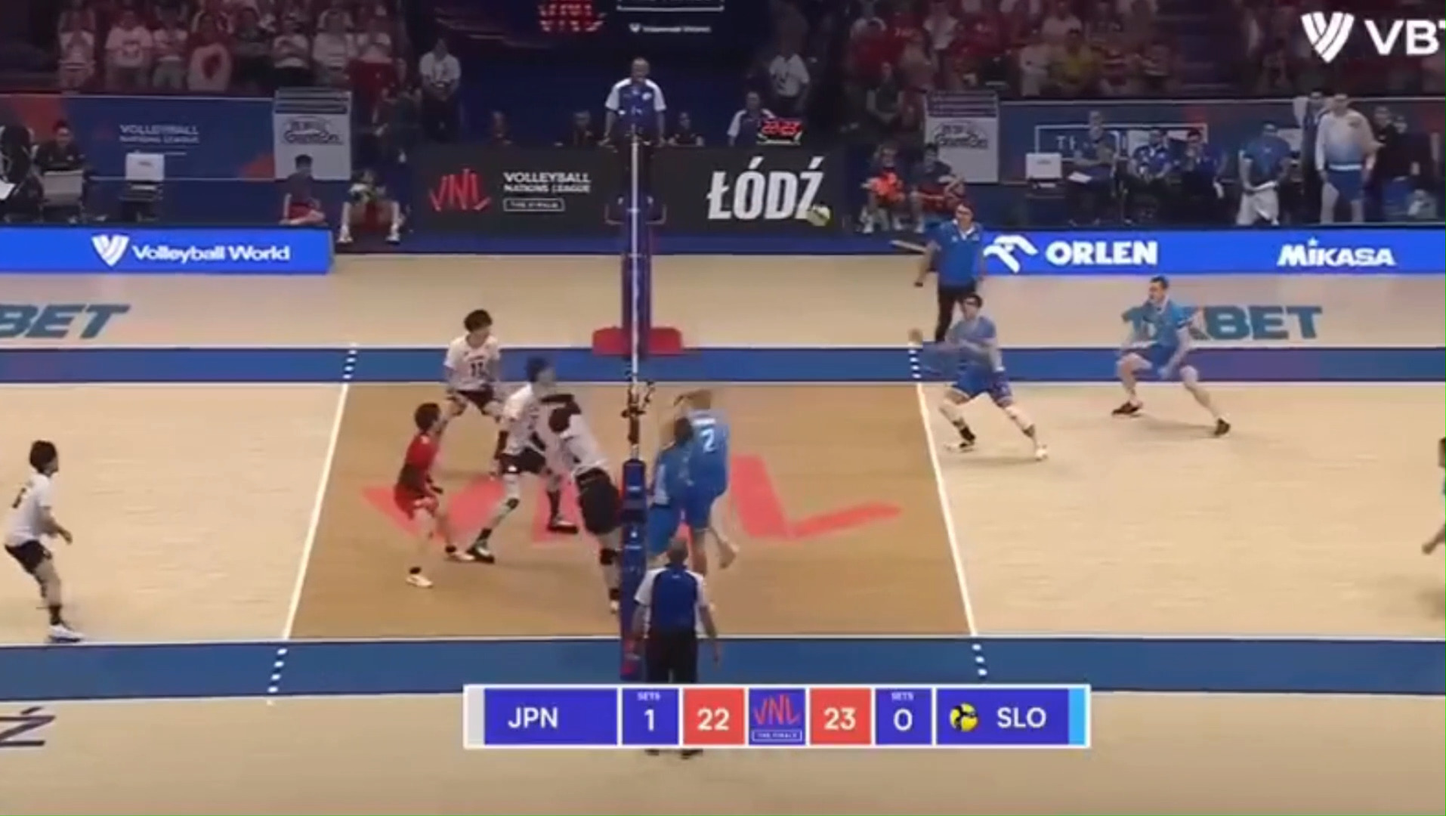ball: (804, 204, 831, 227)
player: (920, 292, 1046, 459), (1112, 276, 1229, 436), (677, 389, 737, 573), (647, 418, 692, 556), (1421, 521, 1445, 555), (1436, 436, 1445, 470), (1443, 481, 1445, 496)
player 1: (467, 357, 577, 562), (0, 440, 83, 642), (392, 402, 476, 588), (548, 408, 616, 535), (443, 309, 500, 416)
referee: (634, 539, 718, 684), (600, 57, 666, 226), (916, 203, 984, 341)
